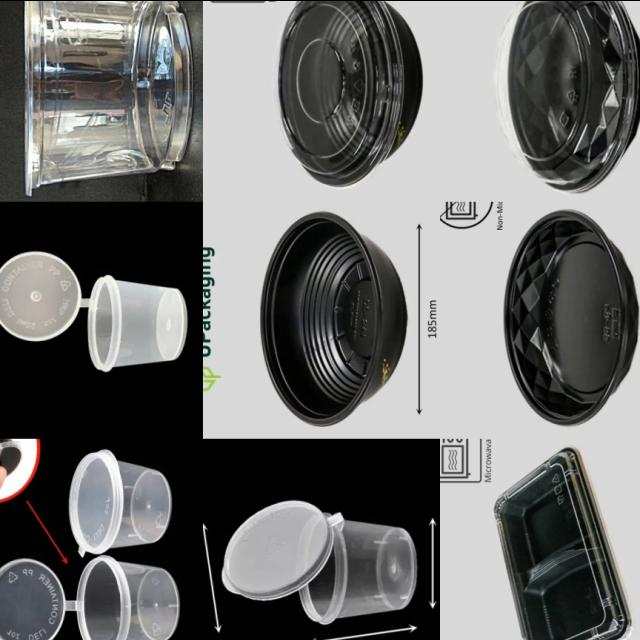plastik: (24, 0, 192, 194), (260, 211, 406, 425), (505, 210, 637, 425), (495, 0, 640, 191), (494, 447, 630, 640), (280, 0, 421, 186), (221, 500, 417, 623), (0, 251, 187, 371), (0, 554, 179, 640), (69, 448, 171, 554)
